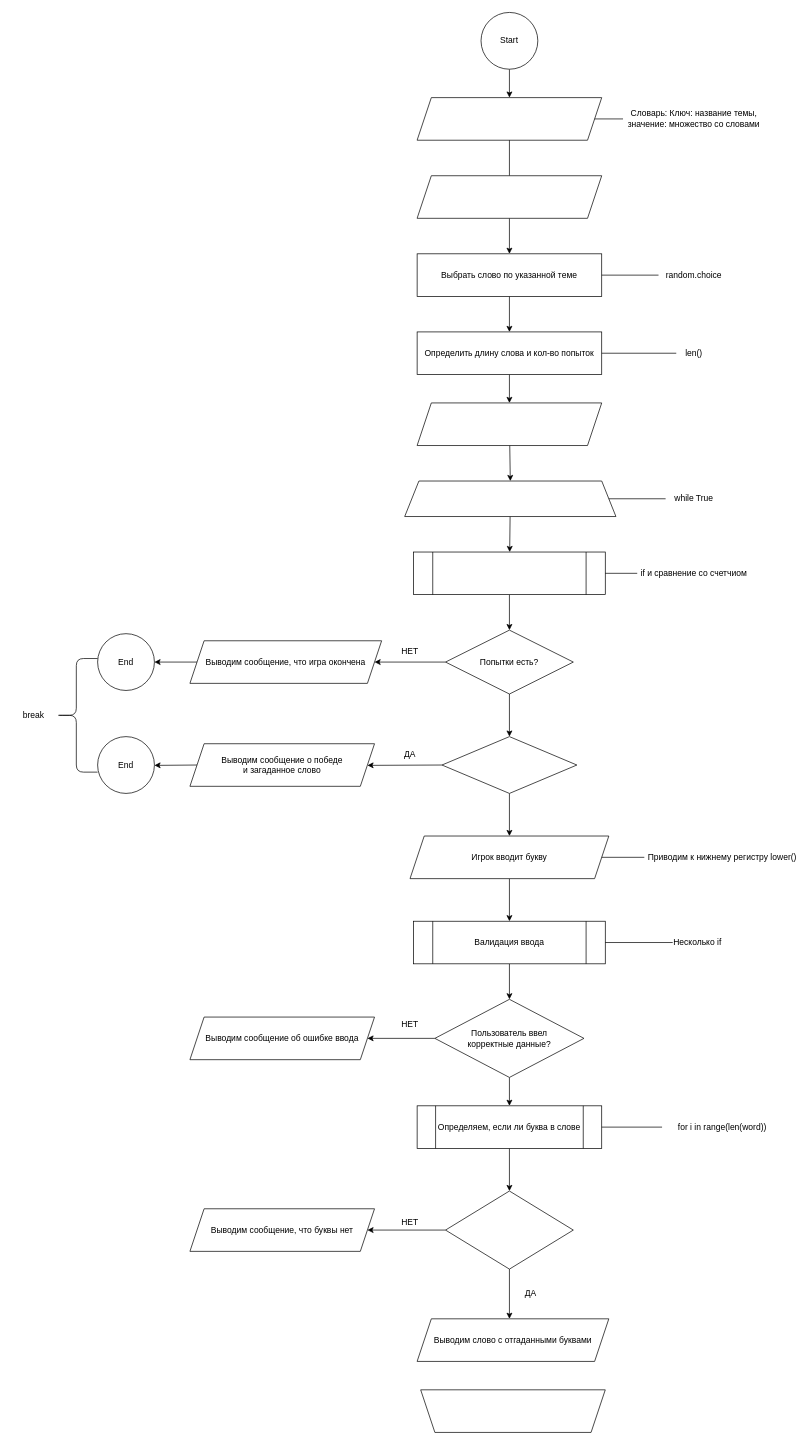
Some shapes in this 812 by 1445 pixel diagram are drawn without their labels. The shapes that lost their labels are listed below. From the top down, each one's box as (x1, y1, x2, y2) in pixels, then its label:
(416, 97, 602, 140): Выводим список доступных тем
(416, 175, 602, 218): Получаем выбор пользователя
(416, 402, 602, 446): Выводим сообщение о длине слова и кол-во попыток
(413, 551, 605, 595): Проверка, есть ли еще попытки для угадывания
(441, 736, 577, 793): Слово отгадано?
(445, 1190, 573, 1269): Буква есть в слове?
(420, 1389, 605, 1432): Слово отгадано или закончились попытки
